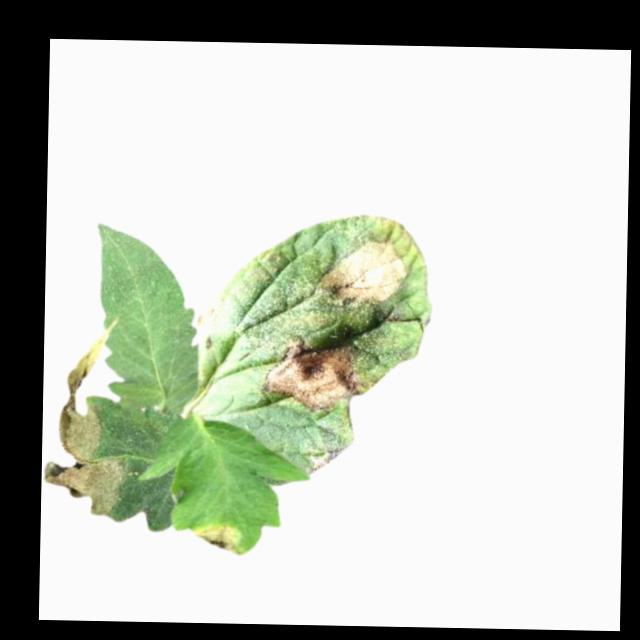Late_blight: (42, 319, 138, 519), (263, 333, 368, 409), (316, 232, 411, 311), (191, 522, 248, 556), (306, 443, 347, 476), (195, 292, 222, 342)
